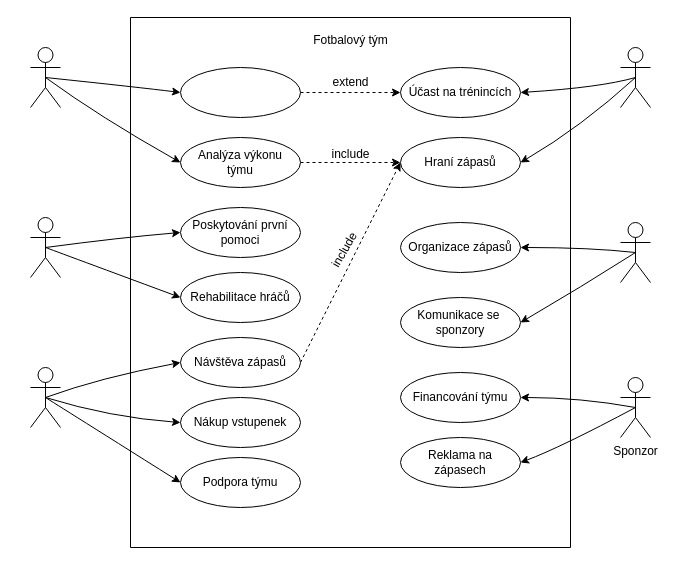
Image size: 676x566. Some labels were removed from this diagram. Here are the shapes that lost their labels. From the top down, the box of each, then its label:
(30, 46, 60, 108): Trenér
(180, 66, 300, 118): Plánování tréninků
(620, 46, 650, 108): Hráč
(30, 216, 60, 278): Zdravotník
(620, 222, 650, 282): Manažer
(30, 366, 60, 428): Divák
